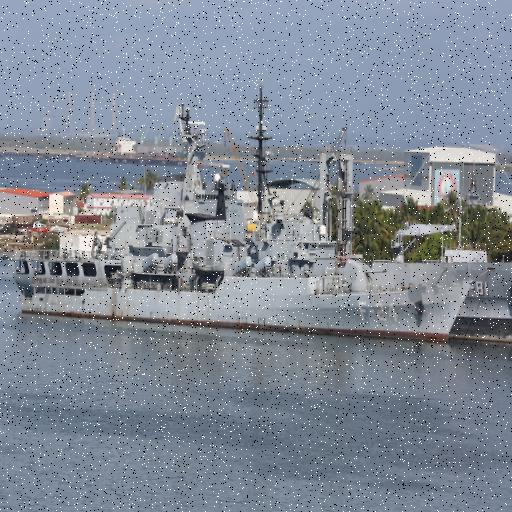Fragata: (6, 139, 474, 350)
